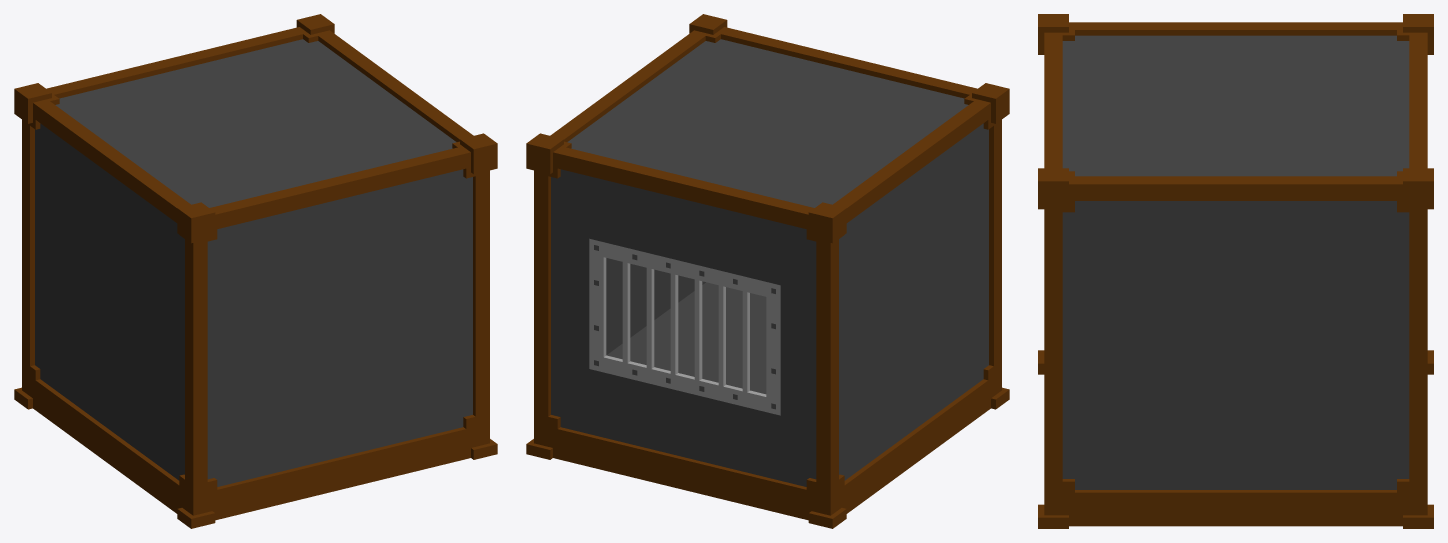
File: newmodel.obj
3 views of the same model, side by side, from view 1: azimuth 30°, elevation 25°; view 2: azimuth 150°, elevation 25°; view 3: azimuth 270°, elevation 25° (orthographic). The views are drawn at different scales.
Parts seen in each view (by area): view 1: Element_#35, Element_#46, Element_#227, Element_#32, Element_#79, Element_#10, Element_#30, Element_#259, Element_#60, Element_#254, Element_#17, Element_#256 (+17 smaller); view 2: Element_#46, Element_#33, Element_#32, Element_#65, Element_#227, Element_#79, Element_#39, Element_#34, Element_#30, Element_#259, Element_#240, Element_#61 (+35 smaller); view 3: Element_#40, Element_#46, Element_#32, Element_#30, Element_#9, Element_#25, Element_#256, Element_#12, Element_#14, Element_#41, Element_#29, Element_#49 (+20 smaller).
Boxes of the visible parts, <box> form: Element_#35: <box>207,171,472,486</box>; Element_#46: <box>55,41,456,207</box>; Element_#227: <box>35,195,156,383</box>; Element_#32: <box>37,297,156,463</box>; Element_#79: <box>40,123,156,283</box>; Element_#10: <box>182,423,489,515</box>; Element_#30: <box>159,210,184,480</box>; Element_#259: <box>33,378,179,513</box>; Element_#60: <box>185,151,466,235</box>; Element_#254: <box>190,241,207,485</box>; Element_#17: <box>473,170,489,416</box>; Element_#256: <box>35,101,190,212</box>; Element_#46: <box>567,41,968,207</box>; Element_#33: <box>551,359,816,486</box>; Element_#32: <box>612,282,955,480</box>; Element_#65: <box>589,176,816,293</box>; Element_#227: <box>839,219,955,404</box>; Element_#79: <box>839,143,955,303</box>; Element_#39: <box>551,169,589,368</box>; Element_#34: <box>538,424,833,515</box>; Element_#30: <box>958,123,983,396</box>; Element_#259: <box>841,379,988,513</box>; Element_#240: <box>780,285,816,424</box>; Element_#61: <box>557,151,838,235</box>; Element_#40: <box>1137,201,1396,400</box>; Element_#46: <box>1075,35,1396,176</box>; Element_#32: <box>1137,400,1402,489</box>; Element_#30: <box>1075,201,1130,489</box>; Element_#9: <box>1075,490,1402,526</box>; Element_#25: <box>1075,181,1396,195</box>; Element_#256: <box>1075,22,1396,35</box>; Element_#12: <box>1415,209,1427,515</box>; Element_#14: <box>1050,209,1062,492</box>; Element_#41: <box>1397,212,1409,400</box>; Element_#29: <box>1069,41,1074,478</box>; Element_#49: <box>1075,176,1402,181</box>.
Bounding box in the file's own units: 1 × 0.9688 × 1.
